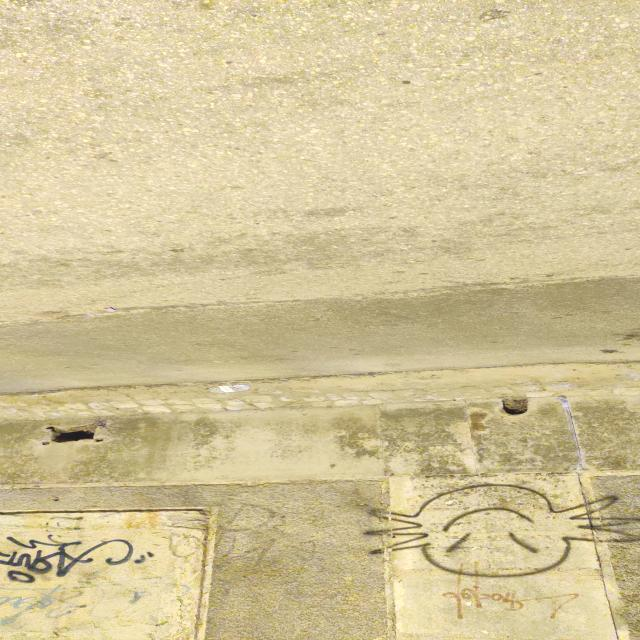Clear plastic bottle: (205, 384, 251, 393)
